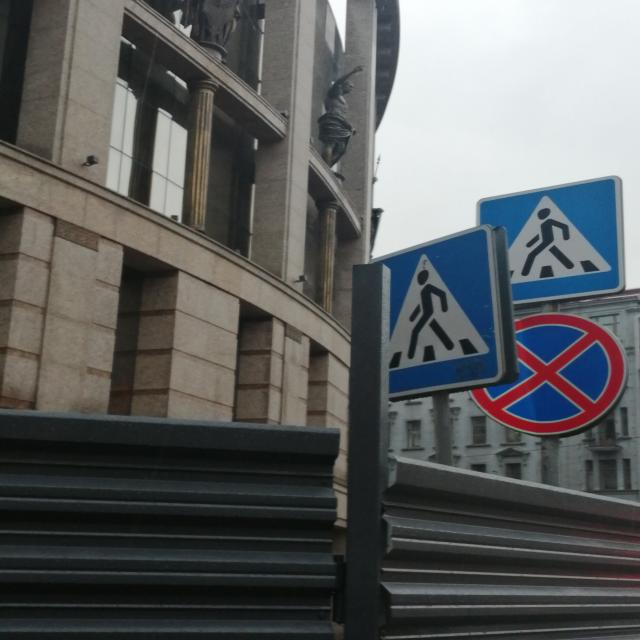road sign: (364, 228, 514, 396), (479, 172, 623, 303), (432, 394, 456, 468)
